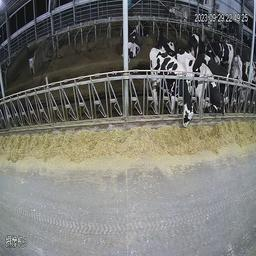cow: (145, 49, 194, 133), (194, 57, 226, 118), (128, 22, 139, 62), (139, 18, 152, 38)
